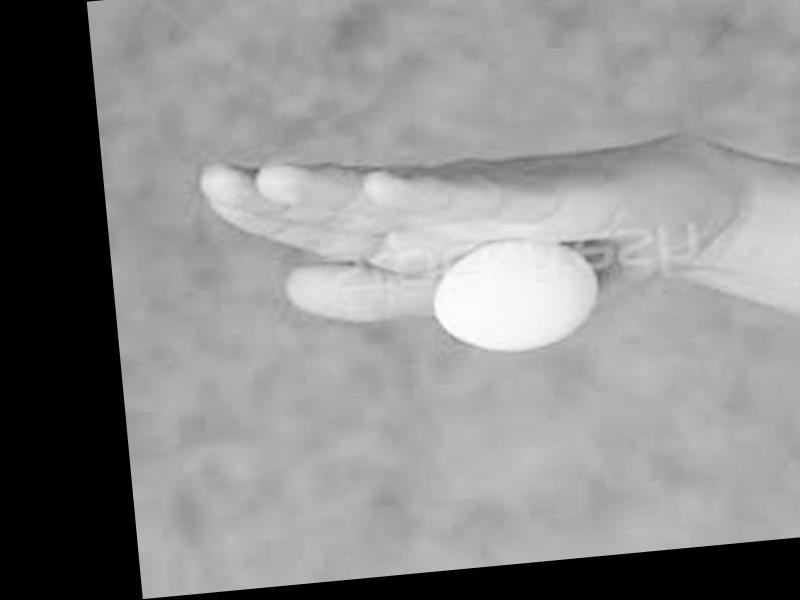Eggs: (429, 233, 603, 361)
